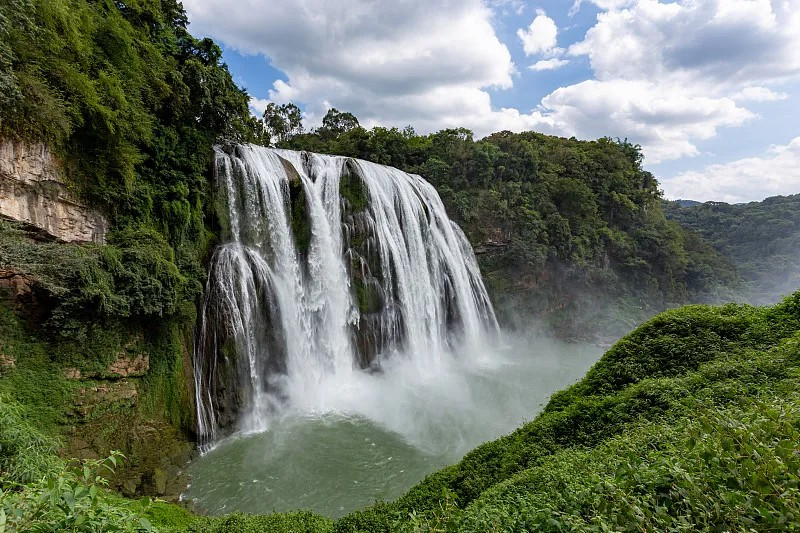Huangguoshu: (195, 142, 500, 448)
